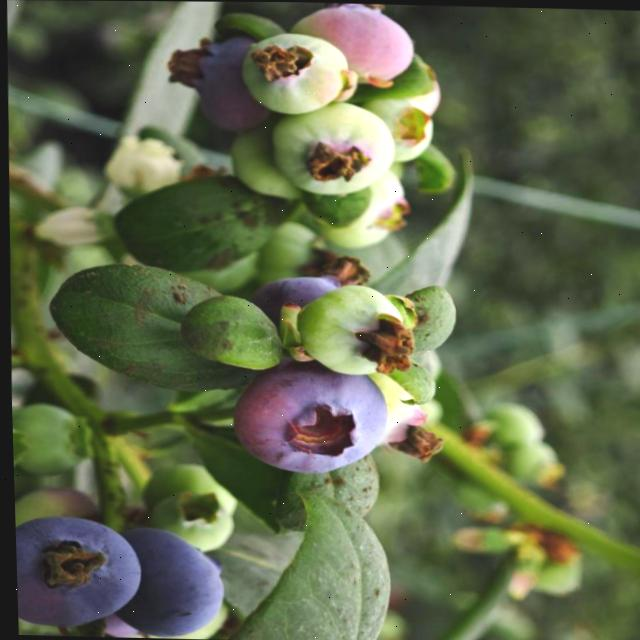RipeBlueBerry: (12, 514, 141, 629), (106, 526, 224, 638), (172, 33, 280, 128)
Semi-RipeBlueBerry: (225, 364, 390, 478), (290, 2, 418, 83)
UnripeBlueBerry: (267, 99, 396, 199), (294, 283, 411, 373), (241, 30, 348, 115)
